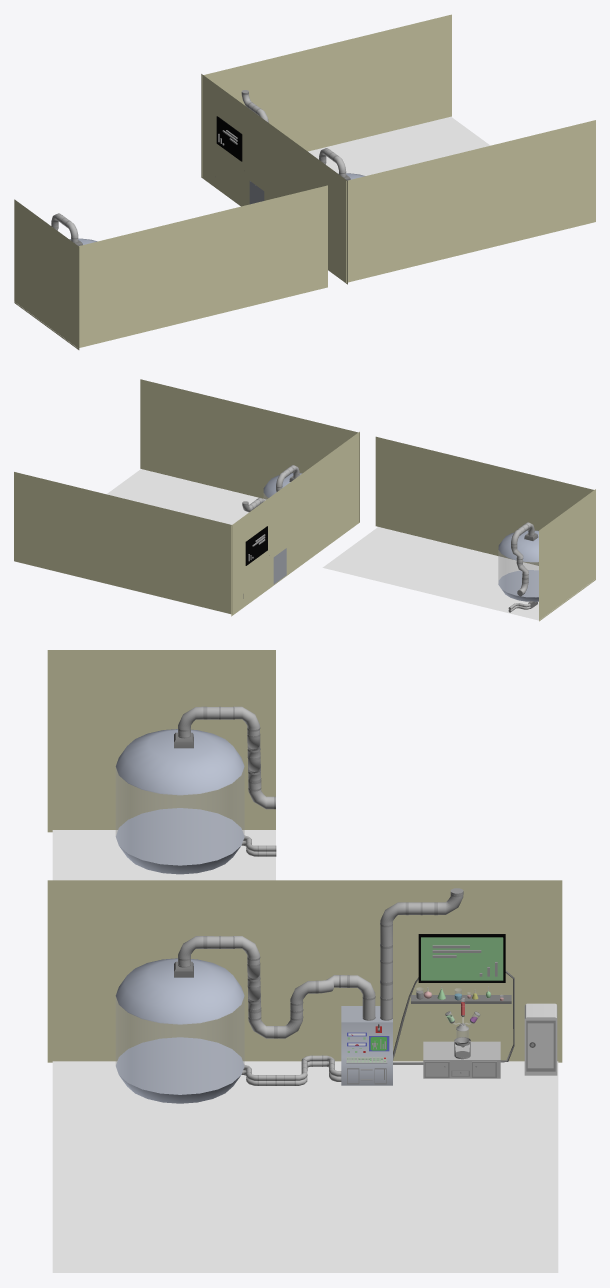
The model's file is Laboratorio.fbx.
3 renders of one model, top to bottom at view 1: azimuth 30°, elevation 25°; view 2: azimuth 150°, elevation 25°; view 3: azimuth 270°, elevation 25°, orthographic. The views are drawn at different scales.
Parts seen in each view (by area): view 1: pPlane8, pPlane14, pPlane10, pPlane13, pPlane7, pPlane12, pCube194, polySurface400, polySurface399; view 2: pPlane10, pPlane14, pPlane8, pPlane13, pPlane9, pPlane7, pPlane12, polySurface400, polySurface399, pCube194, pCube1; view 3: pPlane12, pPlane13, pPlane7, polySurface400, polySurface399, pPlane9, pCube195, pCube1, polySurface402, pCube188, pCube206, pCube194.
Part boxes in pixels (box(x1,y1,x2,y2)): pPlane8: box(346, 120, 595, 282); pPlane14: box(79, 185, 327, 347); pPlane10: box(202, 14, 451, 176); pPlane13: box(201, 74, 347, 284); pPlane7: box(14, 199, 79, 349); pPlane12: box(308, 116, 489, 175); pCube194: box(216, 116, 242, 161); polySurface400: box(51, 213, 97, 245); polySurface399: box(319, 148, 365, 180); pPlane10: box(14, 472, 232, 614); pPlane14: box(375, 436, 593, 565); pPlane8: box(140, 379, 359, 522); pPlane13: box(231, 431, 359, 616); pPlane9: box(322, 527, 593, 620); pPlane7: box(539, 489, 595, 621); pPlane12: box(17, 469, 265, 614); polySurface400: box(498, 522, 538, 612); polySurface399: box(263, 465, 301, 500); pCube194: box(245, 526, 267, 565); pCube1: box(273, 548, 286, 584); pPlane12: box(52, 1061, 558, 1272); pPlane13: box(47, 880, 562, 1062); pPlane7: box(47, 650, 275, 832); polySurface400: box(115, 706, 276, 874); polySurface399: box(115, 936, 276, 1103); pPlane9: box(52, 830, 275, 880); pCube195: box(421, 937, 503, 980); pCube1: box(341, 1006, 392, 1085); polySurface402: box(276, 975, 375, 1085); pCube188: box(423, 1041, 500, 1078); pCube206: box(524, 1003, 557, 1075); pCube194: box(418, 934, 505, 982).
Bounding box in the file's own units: 164 × 31.61 × 80.28.
